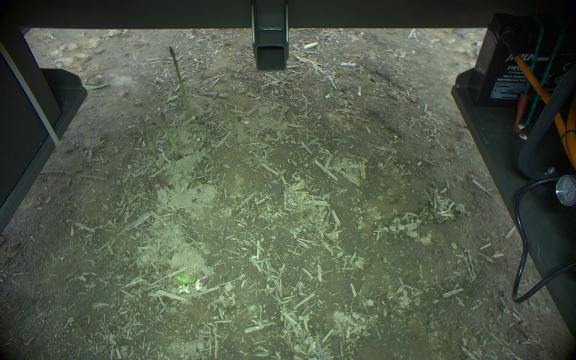aspa: (167, 44, 190, 110), (157, 109, 182, 161), (139, 117, 158, 159), (220, 100, 238, 138), (275, 101, 287, 131), (197, 122, 209, 150)
